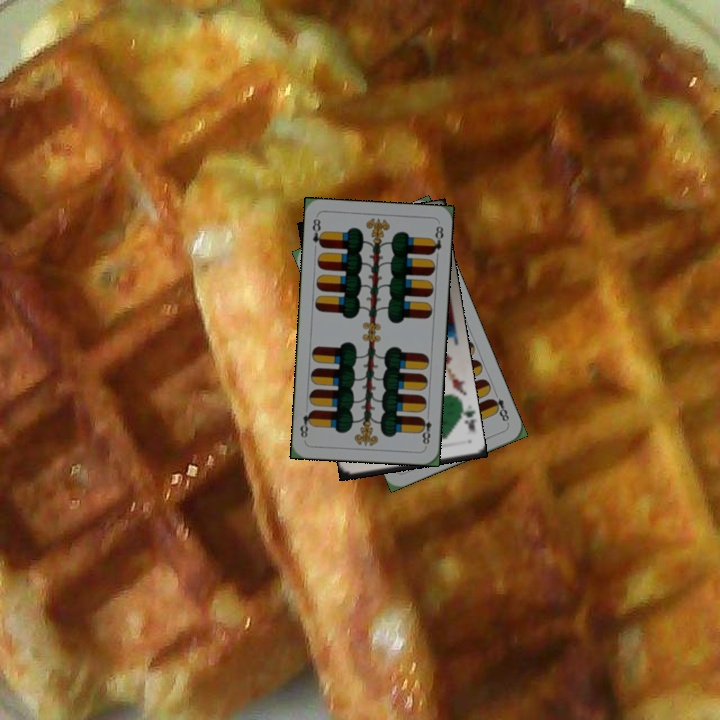E8: (487, 388, 512, 427), (416, 409, 434, 449), (308, 215, 326, 250)
GK: (456, 402, 477, 434)
